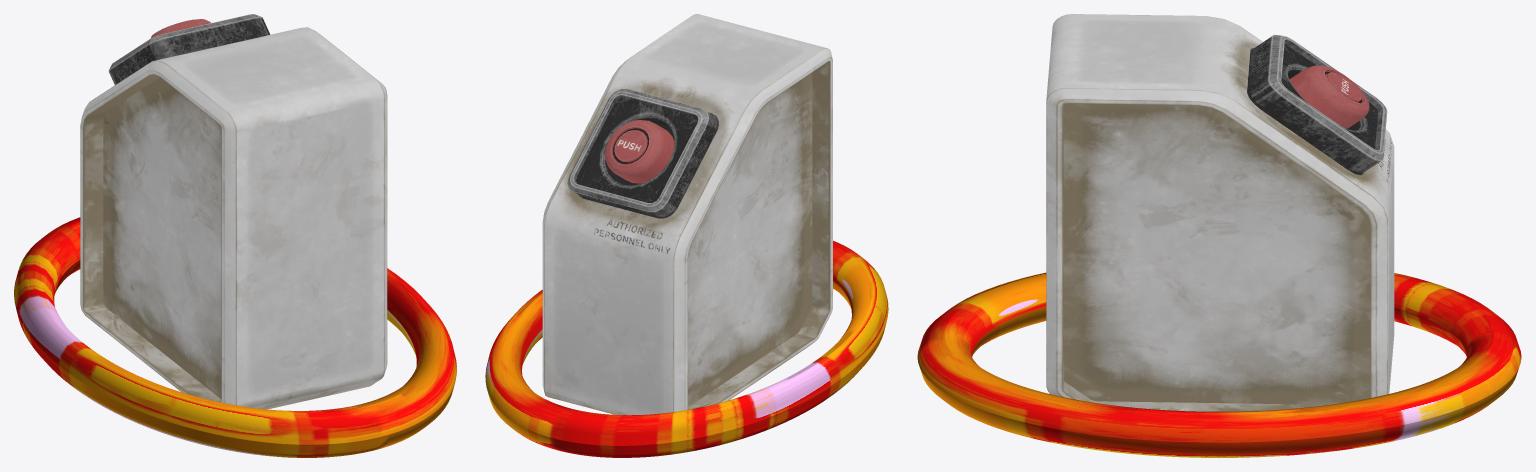
The model's file is button1.glb.
3 renders of one model, left to right at view 1: azimuth 30°, elevation 25°; view 2: azimuth 150°, elevation 25°; view 3: azimuth 270°, elevation 25°, orthographic. The views are drawn at different scales.
Visible parts, largest first — view 1: Object_9.270, Torus.015; view 2: Object_9.270, Torus.015; view 3: Object_9.270, Torus.015.
Boxes of the visible parts, x1,y1,x2,y2 form: Object_9.270: (80, 14, 387, 409); Torus.015: (14, 217, 456, 457); Object_9.270: (542, 14, 832, 415); Torus.015: (485, 241, 888, 457); Object_9.270: (1046, 14, 1394, 411); Torus.015: (917, 272, 1521, 457).
Bounding box in the file's own units: 1.66 × 1.49 × 2.47.
Materials: 3 (2 with a texture image).
